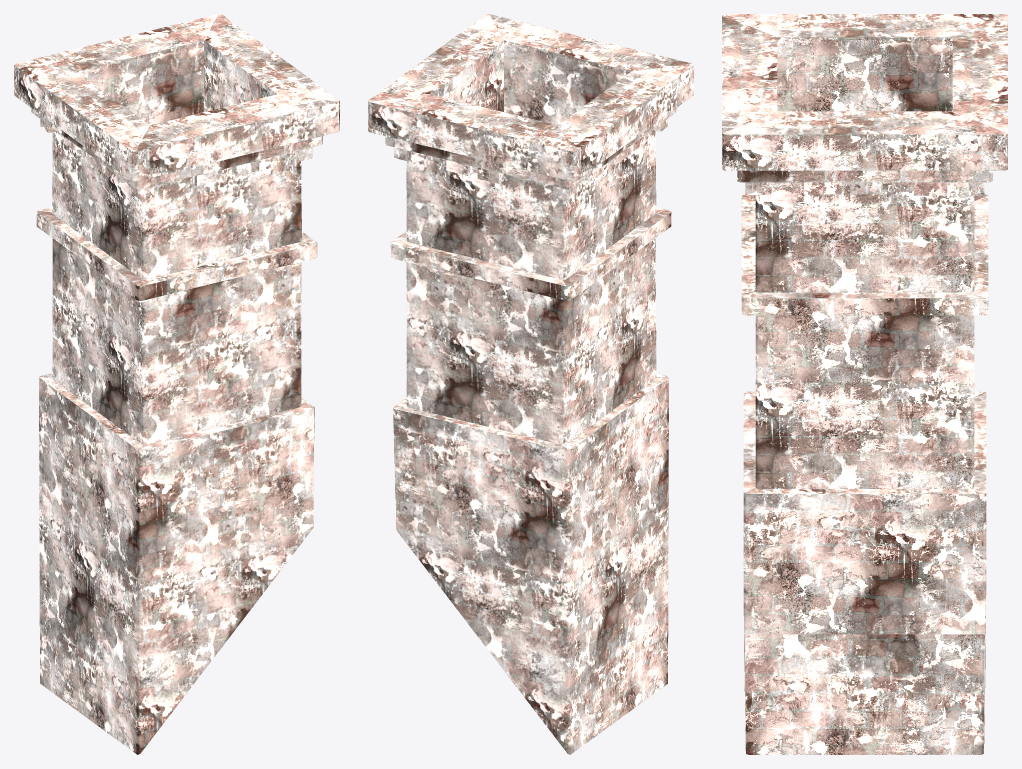
The model's file is SM_chimney_01.fbx.
3 views of the same model, side by side, from view 1: azimuth 30°, elevation 25°; view 2: azimuth 150°, elevation 25°; view 3: azimuth 270°, elevation 25° (orthographic). The views are drawn at different scales.
Parts seen in each view (by area): view 1: SM_chimney_01_LOD0; view 2: SM_chimney_01_LOD0; view 3: SM_chimney_01_LOD0.
Boxes of the visible parts, x1=… form: SM_chimney_01_LOD0: x1=14, y1=14, x2=339, y2=754; SM_chimney_01_LOD0: x1=368, y1=14, x2=693, y2=754; SM_chimney_01_LOD0: x1=722, y1=14, x2=1007, y2=754.
Size of the model in its own units: 196 by 196 by 553.
1 material, 1 textured.
